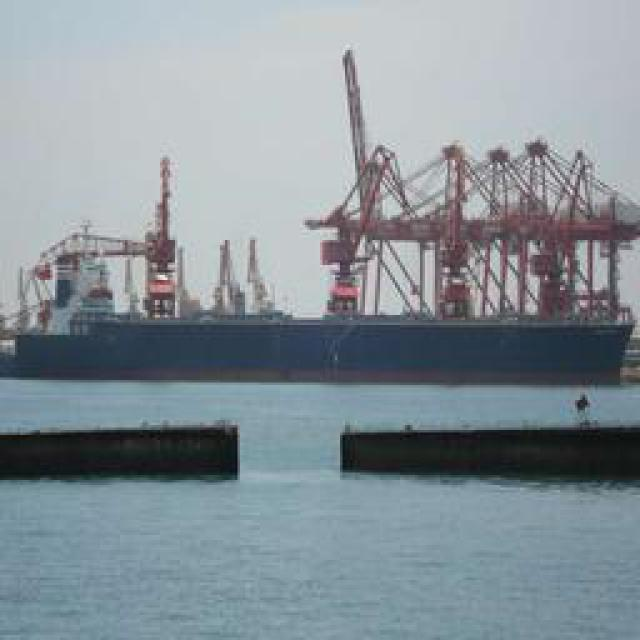Ship: (18, 34, 640, 408)
